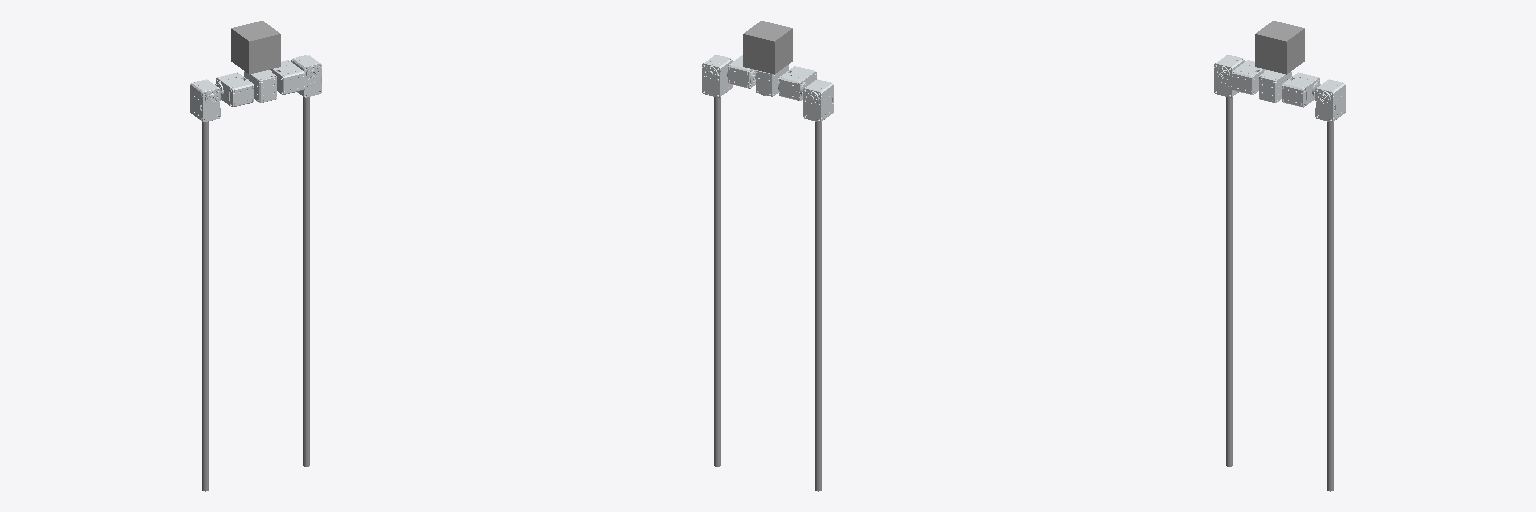
URDF robot description (chopstick_bot):
<?xml version='1.0' encoding='utf-8'?>
<robot name="chopstick_bot">
  <link name="world" />
  <joint name="world_to_base" type="fixed">
    <origin xyz="0.000000 0.000000 0.670000" rpy="0.000000 0.000000 0.000000" />
    <parent link="world" />
    <child link="base_motor_link" />
    </joint>
  <link name="base_motor_link">
    <visual>
      <origin xyz="0.000000 0.000000 0.000000" rpy="0.000000 0.000000 0.000000" />
      <geometry>
        <mesh filename="meshes/XL-430_new_coordinate_on_axis.STL" scale="0.001000 0.001000 0.001000" />
        </geometry>
      <material name="motor_mat">
        <color rgba="0.89804 0.91765 0.92941 1.0" />
        </material>
      </visual>
    <collision>
      <origin xyz="0.000000 -0.012000 0.000000" rpy="0.000000 0.000000 0.000000" />
      <geometry>
        <box size="0.028500 0.046500 0.034000" />
        </geometry>
      </collision>
    <inertial>
      <origin xyz="0.000000 -0.012000 0.000000" rpy="0.000000 0.000000 0.000000" />
      <mass value="0.065000" />
      <inertia ixx="0.000017973854" ixy="0" ixz="0" iyy="0.000010661354" iyz="0" izz="0.000016111875" />
      </inertial>
    </link>
  <link name="l_hip_pitch">
    <visual>
      <origin xyz="0.000000 0.000000 0.000000" rpy="0.000000 0.000000 0.000000" />
      <geometry>
        <mesh filename="meshes/XL-430_new_coordinate_on_axis.STL" scale="0.001000 0.001000 0.001000" />
        </geometry>
      <material name="motor_mat">
        <color rgba="0.89804 0.91765 0.92941 1.0" />
        </material>
      </visual>
    <collision>
      <origin xyz="0.000000 -0.012000 0.000000" rpy="0.000000 0.000000 0.000000" />
      <geometry>
        <box size="0.028500 0.046500 0.034000" />
        </geometry>
      </collision>
    <inertial>
      <origin xyz="0.000000 -0.012000 0.000000" rpy="0.000000 0.000000 0.000000" />
      <mass value="0.065000" />
      <inertia ixx="0.000017973854" ixy="0" ixz="0" iyy="0.000010661354" iyz="0" izz="0.000016111875" />
      </inertial>
    </link>
  <link name="l_hip_pitch_out">
    <inertial>
      <origin xyz="0.000000 0.000000 0.000000" rpy="0.000000 0.000000 0.000000" />
      <mass value="0.001000" />
      <inertia ixx="0.000000016667" ixy="0" ixz="0" iyy="0.000000016667" iyz="0" izz="0.000000016667" />
      </inertial>
    </link>
  <joint name="l_hip_pitch_mount_fixed" type="fixed">
    <origin xyz="-0.040000 0.000000 0.000000" rpy="0.000000 -1.570796 0.000000" />
    <parent link="base_motor_link" />
    <child link="l_hip_pitch" />
    </joint>
  <joint name="l_hip_pitch_joint" type="revolute">
    <origin xyz="0.000000 0.000000 0.000000" rpy="0.000000 0.000000 0.000000" />
    <parent link="l_hip_pitch" />
    <child link="l_hip_pitch_out" />
    <axis xyz="0.000000 0.000000 1.000000" />
    <limit lower="-3.14159" upper="3.14159" effort="5.0" velocity="8.0" />
    </joint>
  <link name="l_hip_roll">
    <visual>
      <origin xyz="0.000000 0.000000 0.000000" rpy="0.000000 0.000000 0.000000" />
      <geometry>
        <mesh filename="meshes/XL-430_new_coordinate_on_axis.STL" scale="0.001000 0.001000 0.001000" />
        </geometry>
      <material name="motor_mat">
        <color rgba="0.89804 0.91765 0.92941 1.0" />
        </material>
      </visual>
    <collision>
      <origin xyz="0.000000 -0.012000 0.000000" rpy="0.000000 0.000000 0.000000" />
      <geometry>
        <box size="0.028500 0.046500 0.034000" />
        </geometry>
      </collision>
    <inertial>
      <origin xyz="0.000000 -0.012000 0.000000" rpy="0.000000 0.000000 0.000000" />
      <mass value="0.065000" />
      <inertia ixx="0.000017973854" ixy="0" ixz="0" iyy="0.000010661354" iyz="0" izz="0.000016111875" />
      </inertial>
    </link>
  <link name="l_hip_roll_out">
    <inertial>
      <origin xyz="0.000000 0.000000 0.000000" rpy="0.000000 0.000000 0.000000" />
      <mass value="0.001000" />
      <inertia ixx="0.000000016667" ixy="0" ixz="0" iyy="0.000000016667" iyz="0" izz="0.000000016667" />
      </inertial>
    </link>
  <joint name="l_hip_roll_mount_fixed" type="fixed">
    <origin xyz="0.000000 0.000000 0.040000" rpy="0.000000 -1.570796 -1.570796" />
    <parent link="l_hip_pitch_out" />
    <child link="l_hip_roll" />
    </joint>
  <joint name="l_hip_roll_joint" type="revolute">
    <origin xyz="0.000000 0.000000 0.000000" rpy="0.000000 0.000000 0.000000" />
    <parent link="l_hip_roll" />
    <child link="l_hip_roll_out" />
    <axis xyz="0.000000 0.000000 1.000000" />
    <limit lower="-3.14159" upper="3.14159" effort="5.0" velocity="8.0" />
    </joint>
  <link name="l_end_effector">
    <visual>
      <origin xyz="0.000000 0.000000 0.000000" rpy="1.570796 0.000000 0.000000" />
      <geometry>
        <cylinder radius="0.005000" length="0.600000" />
        </geometry>
      <material name="cylinder_mat">
        <color rgba="0.7 0.7 0.7 1.0" />
        </material>
      </visual>
    <collision>
      <origin xyz="0.000000 -0.300000 0.000000" rpy="0.000000 0.000000 0.000000" />
      <geometry>
        <box size="0.020000 0.020000 0.020000" />
        </geometry>
      </collision>
    <inertial>
      <origin xyz="0.000000 0.000000 0.000000" rpy="0.000000 0.000000 0.000000" />
      <mass value="0.023562" />
      <inertia ixx="0.000707005609" ixy="0" ixz="0" iyy="0.000707005609" iyz="0" izz="0.000000294524" />
      </inertial>
    </link>
  <joint name="l_end_effector_fixed" type="fixed">
    <origin xyz="0.000000 -0.300000 0.000000" rpy="0.000000 0.000000 0.000000" />
    <parent link="l_hip_roll_out" />
    <child link="l_end_effector" />
    </joint>
  <link name="r_hip_pitch">
    <visual>
      <origin xyz="0.000000 0.000000 0.000000" rpy="0.000000 0.000000 0.000000" />
      <geometry>
        <mesh filename="meshes/XL-430_new_coordinate_on_axis.STL" scale="0.001000 0.001000 0.001000" />
        </geometry>
      <material name="motor_mat">
        <color rgba="0.89804 0.91765 0.92941 1.0" />
        </material>
      </visual>
    <collision>
      <origin xyz="0.000000 -0.012000 0.000000" rpy="0.000000 0.000000 0.000000" />
      <geometry>
        <box size="0.028500 0.046500 0.034000" />
        </geometry>
      </collision>
    <inertial>
      <origin xyz="0.000000 -0.012000 0.000000" rpy="0.000000 0.000000 0.000000" />
      <mass value="0.065000" />
      <inertia ixx="0.000017973854" ixy="0" ixz="0" iyy="0.000010661354" iyz="0" izz="0.000016111875" />
      </inertial>
    </link>
  <link name="r_hip_pitch_out">
    <inertial>
      <origin xyz="0.000000 0.000000 0.000000" rpy="0.000000 0.000000 0.000000" />
      <mass value="0.001000" />
      <inertia ixx="0.000000016667" ixy="0" ixz="0" iyy="0.000000016667" iyz="0" izz="0.000000016667" />
      </inertial>
    </link>
  <joint name="r_hip_pitch_mount_fixed" type="fixed">
    <origin xyz="0.040000 0.000000 0.000000" rpy="0.000000 1.570796 -0.000000" />
    <parent link="base_motor_link" />
    <child link="r_hip_pitch" />
    </joint>
  <joint name="r_hip_pitch_joint" type="revolute">
    <origin xyz="0.000000 0.000000 0.000000" rpy="0.000000 0.000000 0.000000" />
    <parent link="r_hip_pitch" />
    <child link="r_hip_pitch_out" />
    <axis xyz="0.000000 0.000000 1.000000" />
    <limit lower="-3.14159" upper="3.14159" effort="5.0" velocity="8.0" />
    </joint>
  <link name="r_hip_roll">
    <visual>
      <origin xyz="0.000000 0.000000 0.000000" rpy="0.000000 0.000000 0.000000" />
      <geometry>
        <mesh filename="meshes/XL-430_new_coordinate_on_axis.STL" scale="0.001000 0.001000 0.001000" />
        </geometry>
      <material name="motor_mat">
        <color rgba="0.89804 0.91765 0.92941 1.0" />
        </material>
      </visual>
    <collision>
      <origin xyz="0.000000 -0.012000 0.000000" rpy="0.000000 0.000000 0.000000" />
      <geometry>
        <box size="0.028500 0.046500 0.034000" />
        </geometry>
      </collision>
    <inertial>
      <origin xyz="0.000000 -0.012000 0.000000" rpy="0.000000 0.000000 0.000000" />
      <mass value="0.065000" />
      <inertia ixx="0.000017973854" ixy="0" ixz="0" iyy="0.000010661354" iyz="0" izz="0.000016111875" />
      </inertial>
    </link>
  <link name="r_hip_roll_out">
    <inertial>
      <origin xyz="0.000000 0.000000 0.000000" rpy="0.000000 0.000000 0.000000" />
      <mass value="0.001000" />
      <inertia ixx="0.000000016667" ixy="0" ixz="0" iyy="0.000000016667" iyz="0" izz="0.000000016667" />
      </inertial>
    </link>
  <joint name="r_hip_roll_mount_fixed" type="fixed">
    <origin xyz="-0.000000 0.000000 0.040000" rpy="0.000000 1.570796 1.570796" />
    <parent link="r_hip_pitch_out" />
    <child link="r_hip_roll" />
    </joint>
  <joint name="r_hip_roll_joint" type="revolute">
    <origin xyz="0.000000 0.000000 0.000000" rpy="0.000000 0.000000 0.000000" />
    <parent link="r_hip_roll" />
    <child link="r_hip_roll_out" />
    <axis xyz="0.000000 0.000000 1.000000" />
    <limit lower="-3.14159" upper="3.14159" effort="5.0" velocity="8.0" />
    </joint>
  <link name="r_end_effector">
    <visual>
      <origin xyz="0.000000 0.000000 0.000000" rpy="1.570796 0.000000 0.000000" />
      <geometry>
        <cylinder radius="0.005000" length="0.600000" />
        </geometry>
      <material name="cylinder_mat">
        <color rgba="0.7 0.7 0.7 1.0" />
        </material>
      </visual>
    <collision>
      <origin xyz="0.000000 -0.300000 0.000000" rpy="0.000000 0.000000 0.000000" />
      <geometry>
        <box size="0.020000 0.020000 0.020000" />
        </geometry>
      </collision>
    <inertial>
      <origin xyz="0.000000 0.000000 0.000000" rpy="0.000000 0.000000 0.000000" />
      <mass value="0.023562" />
      <inertia ixx="0.000707005609" ixy="0" ixz="0" iyy="0.000707005609" iyz="0" izz="0.000000294524" />
      </inertial>
    </link>
  <joint name="r_end_effector_fixed" type="fixed">
    <origin xyz="-0.000000 -0.300000 0.000000" rpy="0.000000 -0.000000 0.000000" />
    <parent link="r_hip_roll_out" />
    <child link="r_end_effector" />
    </joint>
  <link name="trunk_link">
    <visual>
      <origin xyz="0.000000 0.000000 0.000000" rpy="0.000000 0.000000 0.000000" />
      <geometry>
        <box size="0.050000 0.050000 0.050000" />
        </geometry>
      <material name="box_mat">
        <color rgba="0.7 0.7 0.7 1.0" />
        </material>
      </visual>
    <collision>
      <origin xyz="0.000000 0.000000 0.000000" rpy="0.000000 0.000000 0.000000" />
      <geometry>
        <box size="0.050000 0.050000 0.050000" />
        </geometry>
      </collision>
    <inertial>
      <origin xyz="0.000000 0.000000 0.000000" rpy="0.000000 0.000000 0.000000" />
      <mass value="0.200000" />
      <inertia ixx="0.000083333333" ixy="0" ixz="0" iyy="0.000083333333" iyz="0" izz="0.000083333333" />
      </inertial>
    </link>
  <joint name="base_to_trunk" type="revolute">
    <origin xyz="0.000000 0.000000 0.050000" rpy="0.000000 0.000000 0.000000" />
    <parent link="base_motor_link" />
    <child link="trunk_link" />
    <axis xyz="0.000000 0.000000 1.000000" />
    <limit lower="-3.14159" upper="3.14159" effort="5.0" velocity="8.0" />
    </joint>
  </robot>

--- What the picture shows (computed from the rendered views, not written in the file) ---
Views: 3 orthographic renders of the robot side by side, from view 1: azimuth 30°, elevation 25°; view 2: azimuth 150°, elevation 25°; view 3: azimuth 330°, elevation 25°.
Model chopstick_bot with 13 links and 12 joints (5 revolute, 7 fixed), rooted at world, posed every joint at zero.
Links seen in each view (by area): view 1: r_end_effector, l_end_effector, trunk_link, l_hip_roll, l_hip_pitch, r_hip_pitch, r_hip_roll, base_motor_link; view 2: r_end_effector, l_end_effector, trunk_link, l_hip_roll, r_hip_roll, l_hip_pitch, r_hip_pitch, base_motor_link; view 3: l_end_effector, r_end_effector, trunk_link, r_hip_roll, r_hip_pitch, l_hip_pitch, l_hip_roll, base_motor_link.
Link boxes in pixels (x1,y1,x2,y2): r_end_effector: [303, 97, 309, 466]; l_end_effector: [202, 122, 208, 491]; trunk_link: [231, 21, 280, 74]; l_hip_roll: [190, 79, 220, 121]; l_hip_pitch: [215, 72, 253, 106]; r_hip_pitch: [269, 60, 304, 94]; r_hip_roll: [291, 55, 321, 97]; base_motor_link: [244, 70, 276, 102]; r_end_effector: [714, 97, 720, 466]; l_end_effector: [815, 122, 821, 491]; trunk_link: [743, 21, 792, 74]; l_hip_roll: [803, 79, 833, 121]; r_hip_roll: [702, 55, 732, 97]; l_hip_pitch: [778, 66, 816, 100]; r_hip_pitch: [727, 55, 755, 88]; base_motor_link: [756, 65, 788, 96]; l_end_effector: [1226, 97, 1232, 466]; r_end_effector: [1327, 122, 1333, 491]; trunk_link: [1255, 21, 1304, 74]; r_hip_roll: [1315, 79, 1345, 121]; r_hip_pitch: [1282, 72, 1320, 107]; l_hip_pitch: [1231, 60, 1266, 94]; l_hip_roll: [1214, 55, 1244, 97]; base_motor_link: [1259, 70, 1291, 102].
Bounding box of the posed robot: 0.1885 × 0.0602 × 0.675 m (x, y, z).
Meshes: 1 distinct files referenced, 5 mesh visuals loaded (1 binary STL).
